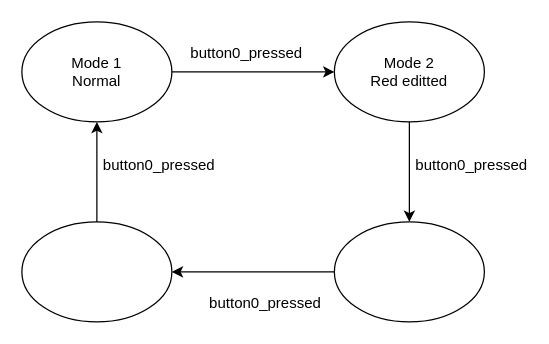
This 549x344 diagram has some shape labels left out. The centre of each missing label's shape, as x and y in pixels:
"Mode 3 Amber editted" belongs at [408,271].
"Mode 4 Green editted" belongs at [96,271].
